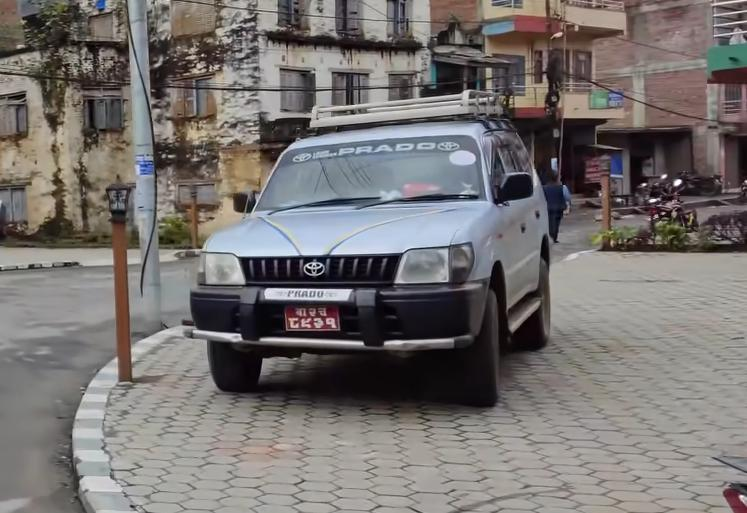SUV: (184, 90, 572, 414)
